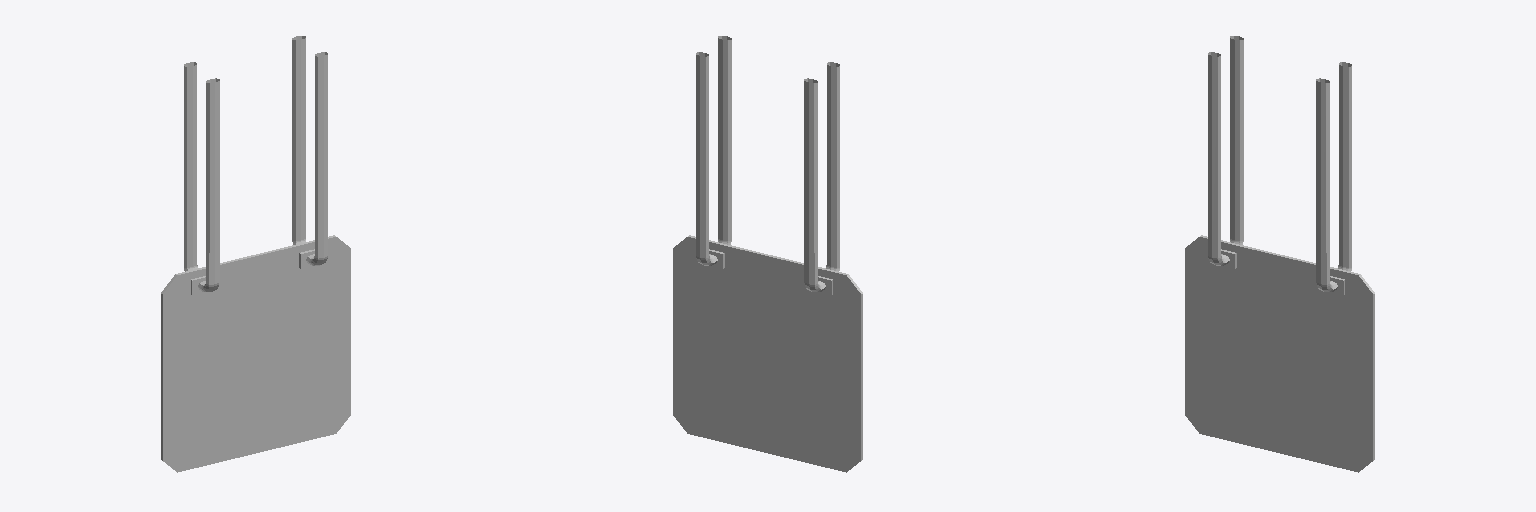
The model's file is Target.obj.
3 views of the same model, side by side, from view 1: azimuth 30°, elevation 25°; view 2: azimuth 150°, elevation 25°; view 3: azimuth 330°, elevation 25° (orthographic).
Parts seen in each view (by area): view 1: Container; view 2: Container; view 3: Container.
Boxes of the visible parts, <box> form: Container: <box>161,36,350,472</box>; Container: <box>673,36,862,472</box>; Container: <box>1185,36,1374,472</box>.
Size of the model in its own units: 0.5116 by 1.02 by 0.1265.